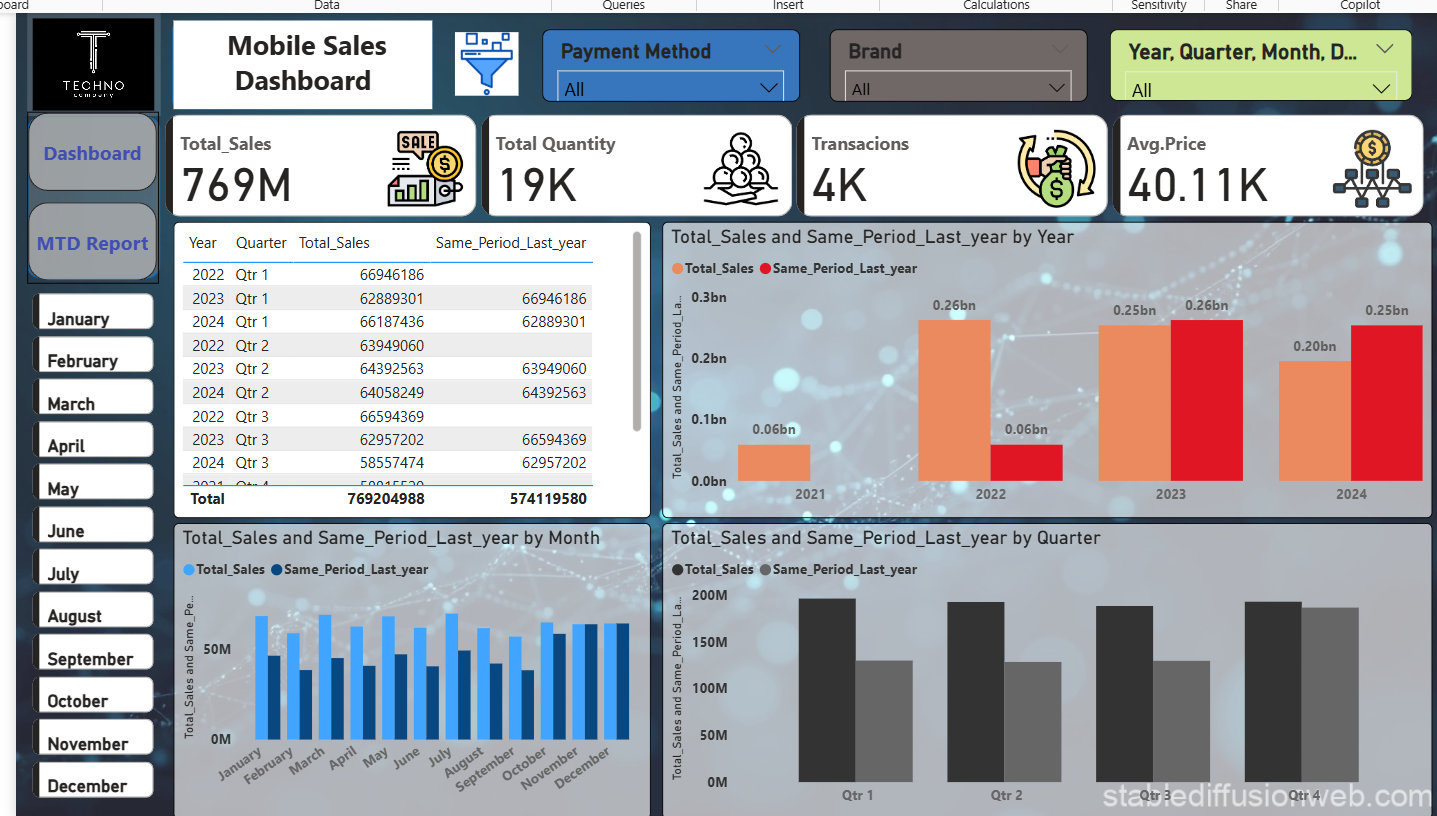

The dashboard page shown, as its layout file describes it:
{"tool":"powerbi","page":{"name":"Same Period  Last Year","canvas":[1280,720],"ordinal":2},"visuals":[{"type":"image","box":[10,0,118.9,92.2],"z":0},{"type":"shape","box":[10,92.2,118.9,144.4],"z":1000},{"type":"cardVisual","fields":{"Data":["Mobiles Sales Data.Total_Sales","Mobiles Sales Data.Total Quantity","Mobiles Sales Data.Transacions","Mobiles Sales Data.Avg.Price"]},"box":[128.9,85.6,1136.7,101.1],"z":2000},{"type":"slicer","fields":{"Values":["Custom Calendar.Dates.Variation.Date Hierarchy.Year","Custom Calendar.Dates.Variation.Date Hierarchy.Quarter","Custom Calendar.Dates.Variation.Date Hierarchy.Month","Custom Calendar.Dates.Variation.Date Hierarchy.Day"]},"box":[976.5,14.8,270.4,64.2],"z":3000},{"type":"slicer","fields":{"Values":["Mobiles Sales Data.Brand"]},"box":[726.5,14.5,230.1,65.1],"z":4000},{"type":"slicer","fields":{"Values":["Mobiles Sales Data.Payment Method"]},"box":[469.9,14.5,230.1,65.1],"z":5000},{"type":"shape","box":[139.8,7.2,232.5,79.5],"z":6000},{"type":"image","box":[330.1,12,179.5,66.3],"z":7000},{"type":"textbox","box":[141,7.2,231.3,79.5],"z":8000},{"type":"advancedSlicerVisual","fields":{"Values":["Custom Calendar.Dates.Variation.Date Hierarchy.Month"]},"box":[9.8,245.1,118.3,472],"z":9000},{"type":"tableEx","fields":{"Values":["Custom Calendar.Dates.Variation.Date Hierarchy.Year","Custom Calendar.Dates.Variation.Date Hierarchy.Quarter","Mobiles Sales Data.Total_Sales","Mobiles Sales Data.Same_Period_Last_year"]},"box":[141.1,186.7,426.7,264.4],"z":10000},{"type":"clusteredColumnChart","fields":{"Category":["Custom Calendar.Dates.Variation.Date Hierarchy.Year","Custom Calendar.Dates.Variation.Date Hierarchy.Quarter"],"Y":["Mobiles Sales Data.Total_Sales","Mobiles Sales Data.Same_Period_Last_year"]},"box":[577.8,186.7,687.8,264.4],"z":11000},{"type":"clusteredColumnChart","fields":{"Category":["Custom Calendar.Dates.Variation.Date Hierarchy.Year","Custom Calendar.Dates.Variation.Date Hierarchy.Quarter"],"Y":["Mobiles Sales Data.Total_Sales","Mobiles Sales Data.Same_Period_Last_year"]},"box":[577.8,455.6,687.8,264.4],"z":12000},{"type":"clusteredColumnChart","fields":{"Y":["Mobiles Sales Data.Total_Sales","Mobiles Sales Data.Same_Period_Last_year"],"Category":["Custom Calendar.Dates.Variation.Date Hierarchy.Year","Custom Calendar.Dates.Variation.Date Hierarchy.Quarter","Custom Calendar.Dates.Variation.Date Hierarchy.Month","Custom Calendar.Dates.Variation.Date Hierarchy.Day"]},"box":[141.1,455.6,426.7,264.4],"z":13000},{"type":"pageNavigator","box":[10,87.8,117.8,153.3],"z":14000}]}

Visuals, with their boxes on the page's 1280x720 design canvas (x1, y1, x2, y2). These are canvas units, not pixel positions in the 1437x816 screenshot, which may show the page scaled, cropped or inside an application window:
image: (10,0,129,92)
shape: (10,92,129,237)
cardVisual - Mobiles Sales Data.Total_Sales x Mobiles Sales Data.Total Quantity: (129,86,1266,187)
slicer - Custom Calendar.Dates.Variation.Date Hierarchy.Year x Custom Calendar.Dates.Variation.Date Hierarchy.Quarter: (976,15,1247,79)
slicer - Mobiles Sales Data.Brand: (726,14,957,80)
slicer - Mobiles Sales Data.Payment Method: (470,14,700,80)
shape: (140,7,372,87)
image: (330,12,510,78)
textbox: (141,7,372,87)
advancedSlicerVisual - Custom Calendar.Dates.Variation.Date Hierarchy.Month: (10,245,128,717)
tableEx - Custom Calendar.Dates.Variation.Date Hierarchy.Year x Custom Calendar.Dates.Variation.Date Hierarchy.Quarter: (141,187,568,451)
clusteredColumnChart - Custom Calendar.Dates.Variation.Date Hierarchy.Year x Custom Calendar.Dates.Variation.Date Hierarchy.Quarter: (578,187,1266,451)
clusteredColumnChart - Custom Calendar.Dates.Variation.Date Hierarchy.Year x Custom Calendar.Dates.Variation.Date Hierarchy.Quarter: (578,456,1266,720)
clusteredColumnChart - Mobiles Sales Data.Total_Sales x Mobiles Sales Data.Same_Period_Last_year: (141,456,568,720)
pageNavigator: (10,88,128,241)
